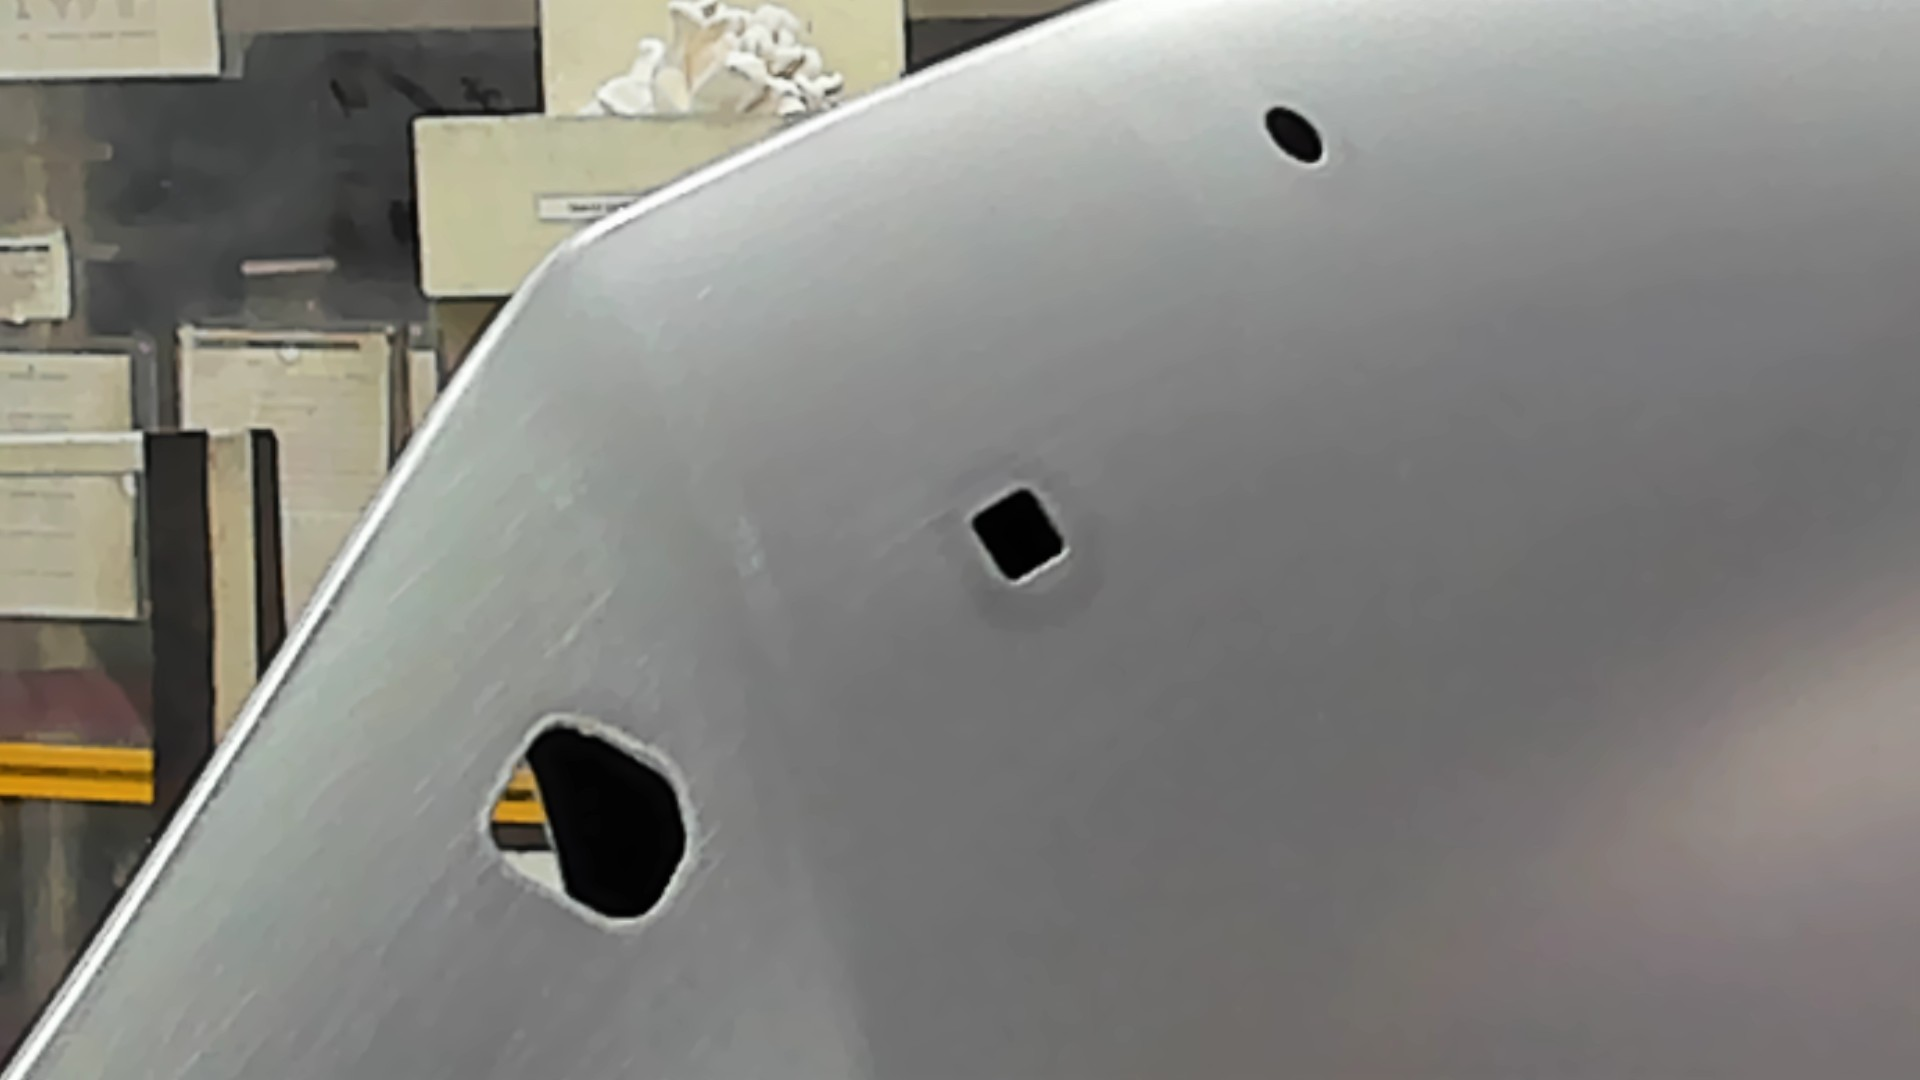capo: (1073, 170, 1920, 1080)
chico: (1263, 100, 1327, 169)
grande: (471, 708, 698, 938)
mediano: (965, 477, 1075, 591)
